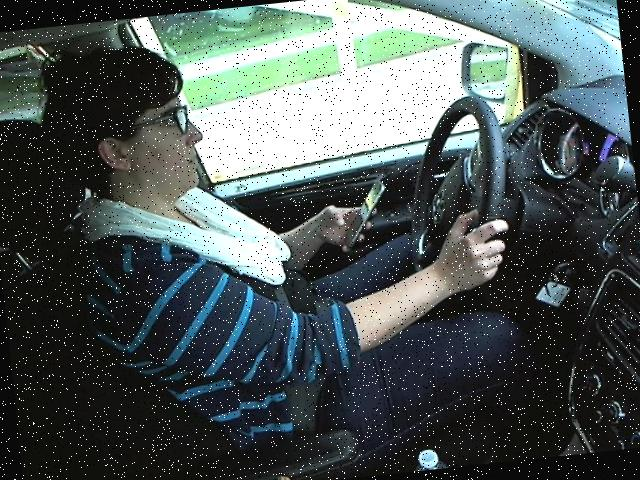c1 - Texting: (23, 7, 536, 412)
